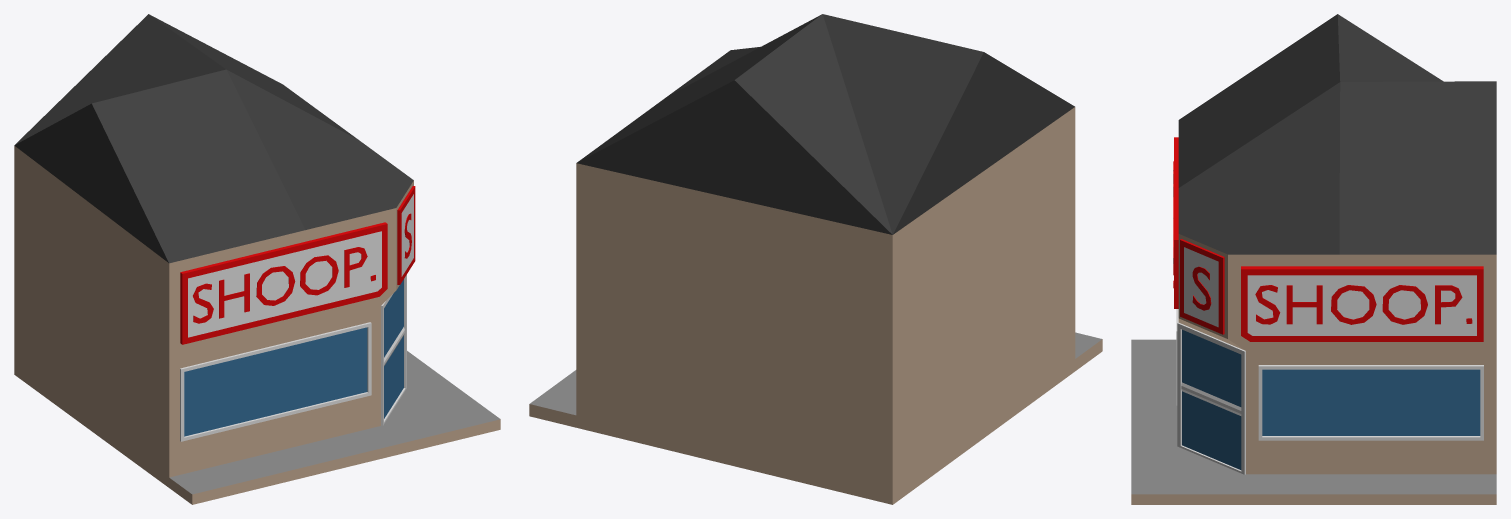
File: Shoop.fbx
3 renders of one model, left to right at view 1: azimuth 30°, elevation 25°; view 2: azimuth 150°, elevation 25°; view 3: azimuth 270°, elevation 25°, orthographic. The views are drawn at different scales.
Parts seen in each view (by area): view 1: Text; view 2: Text; view 3: Text.
Part boxes in pixels (box(x1,y1,x2,y2)): Text: box(14, 14, 500, 504); Text: box(529, 14, 1102, 504); Text: box(1131, 14, 1496, 504).
Size of the model in its own units: 8000 by 8125 by 8000.
